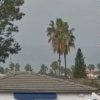Tree: (37, 10, 81, 66)
